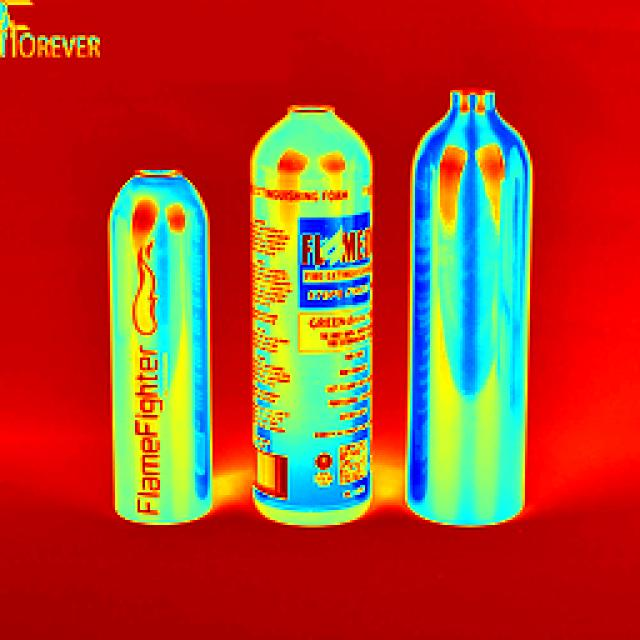Aerosol Cans: (239, 92, 381, 530), (402, 80, 536, 535), (101, 162, 216, 530)
